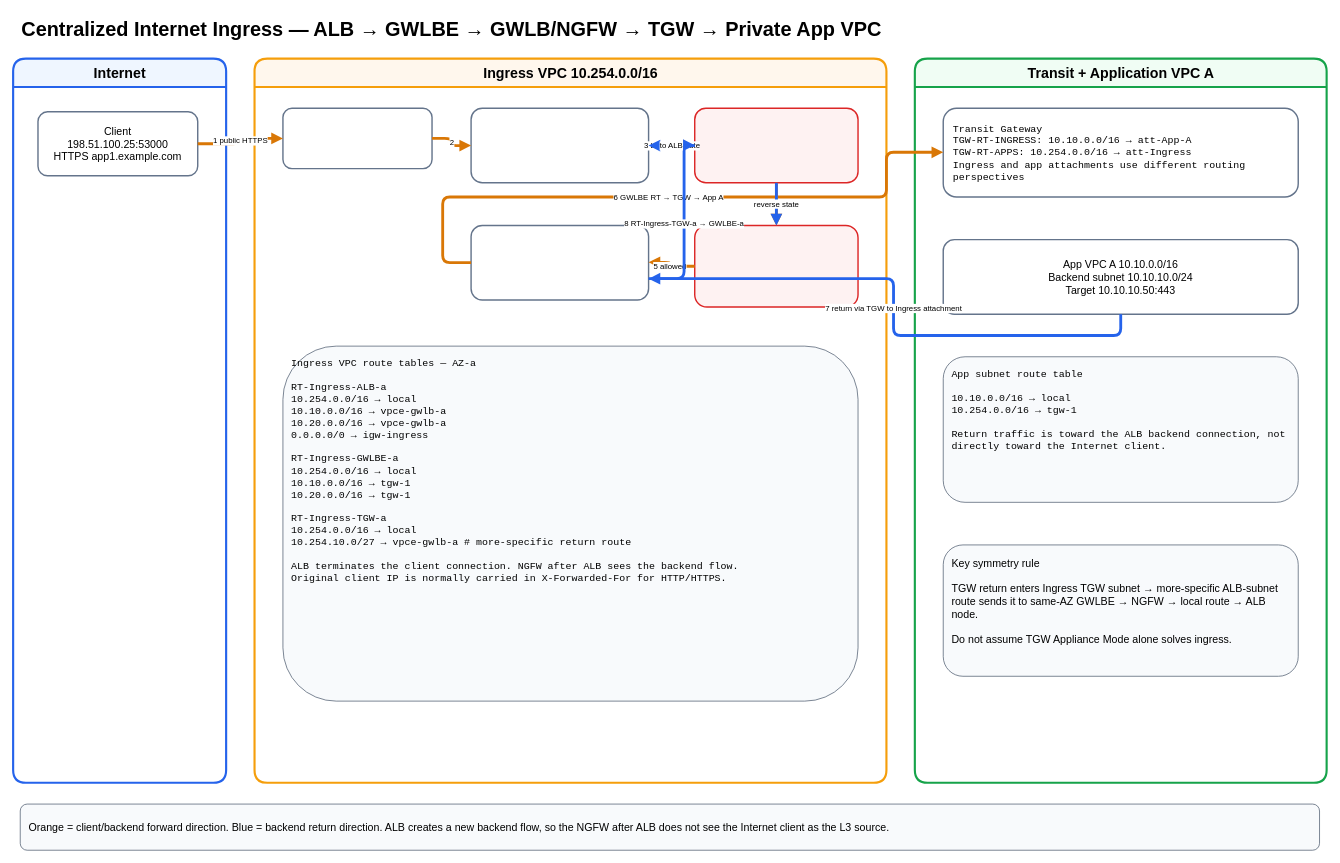
The diagram is 1340 pixels wide and 863 high, and some of its shapes have lost their labels. The centre of each missing label's shape, as x and y in pixels:
"GWLB + NGFW GENEVE UDP/6081 Inspect ALB→backend flow" belongs at pixel 776 265.
"GWLBE-a 10.254.100.0/28 same-AZ insertion" belongs at pixel 776 145.
"Internet Gateway igw-ingress" belongs at pixel 357 138.
"Internet-facing ALB Public subnet AZ-a 10.254.10.0/27" belongs at pixel 559 145.
"TGW attachment subnet 10.254.200.0/27 return enforcement point" belongs at pixel 559 262.
